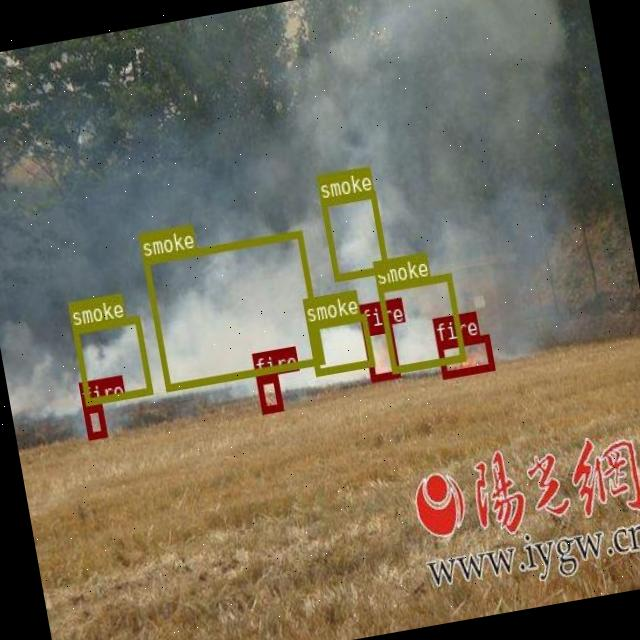fire: (436, 334, 493, 376), (361, 324, 399, 380), (256, 374, 282, 412), (82, 404, 105, 439)
smoke: (142, 230, 324, 391), (377, 272, 465, 372), (70, 316, 152, 406), (319, 190, 387, 280), (306, 312, 374, 374)
